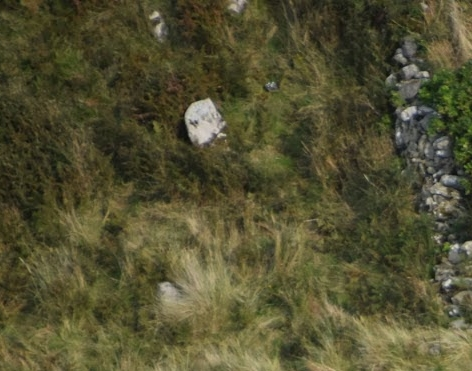white_in_green: (155, 77, 250, 163)
